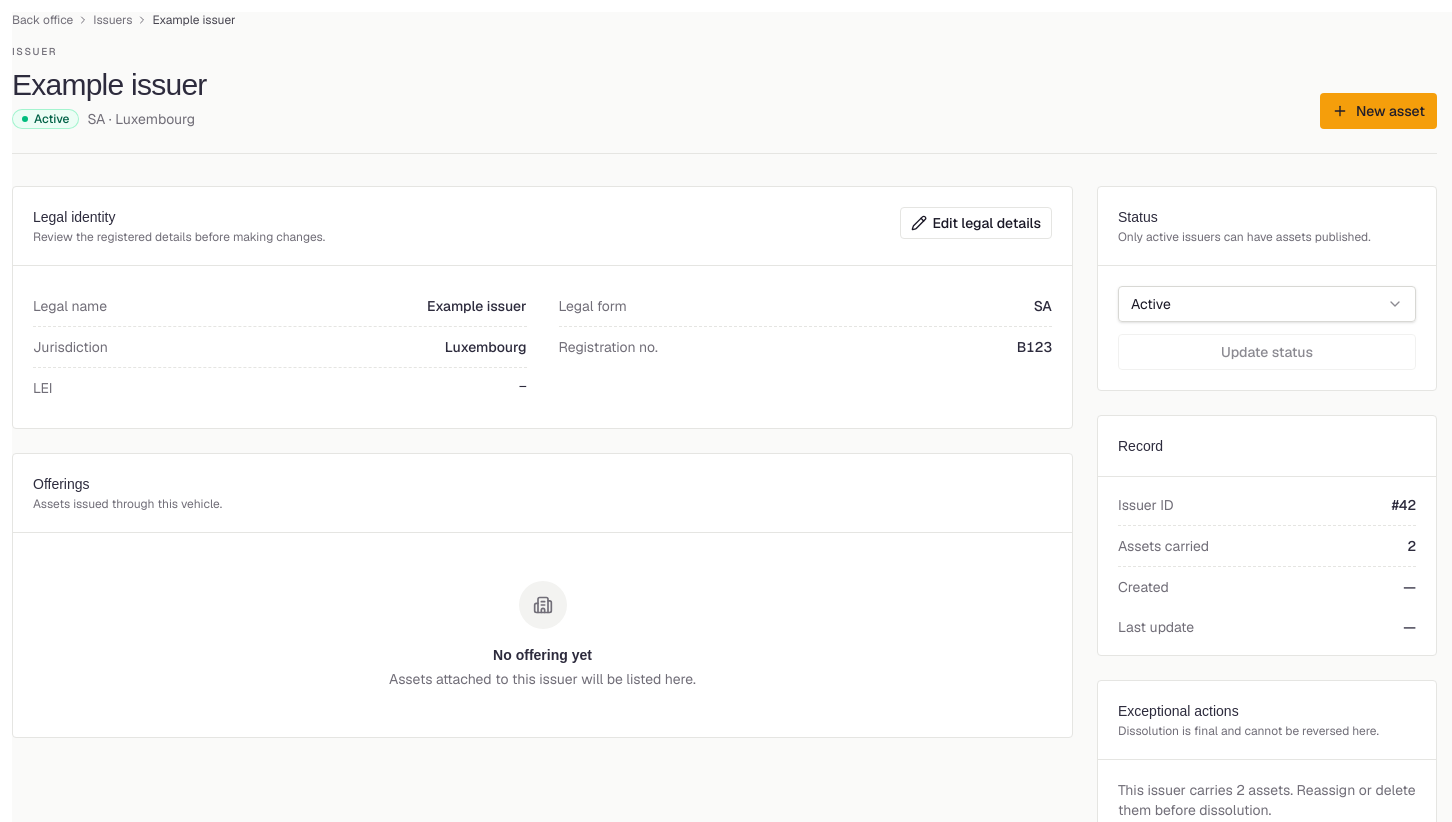
Test: starts in consultation, preserves issuer context and blocks dissolution with assets
The image size is (1452, 822).
Expected: the text "carries 2 assets" is shown, [1118,781,1416,819]
Step 1. Click the button "Edit legal details" → (976, 223), box [900,207,1052,239]
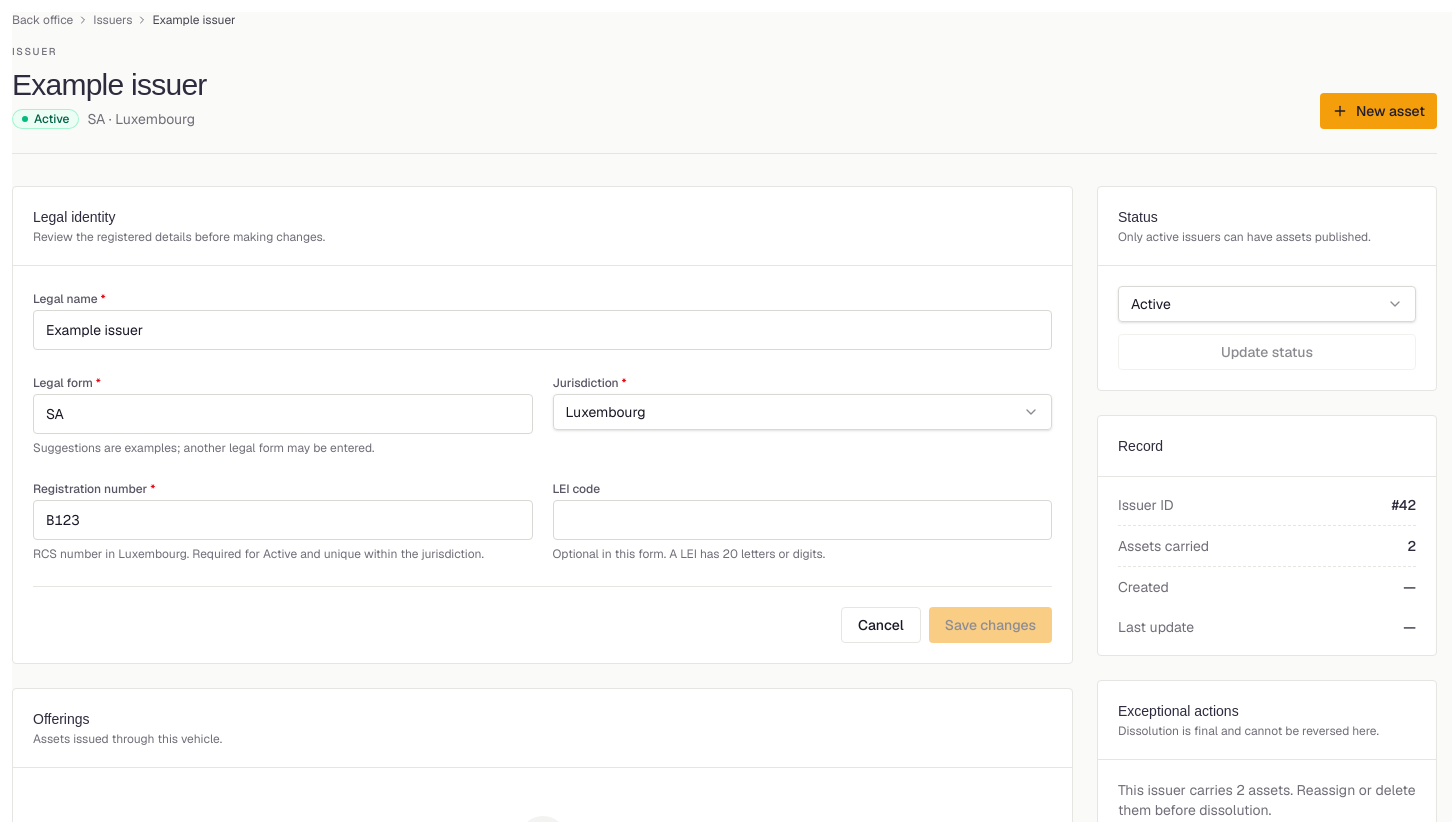
Expected: the field labelled "Legal name *" holds "Example issuer", [33,310,1052,350]
